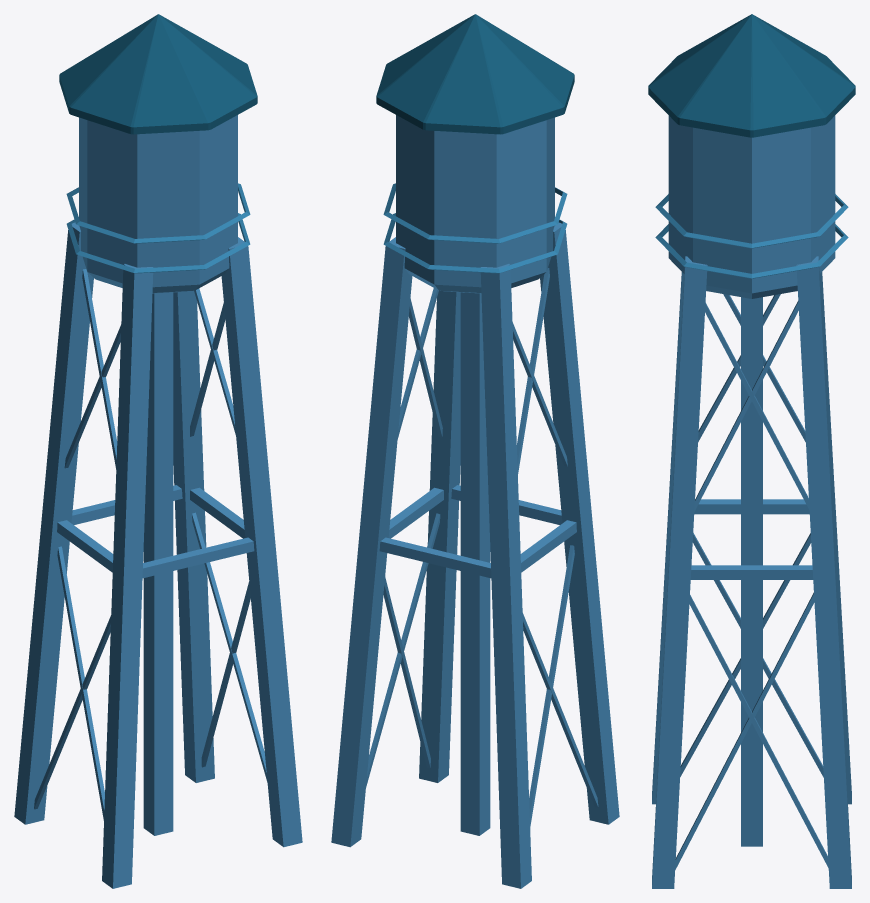
The model's file is water tower.fbx.
3 views of the same model, side by side, from view 1: azimuth 30°, elevation 25°; view 2: azimuth 150°, elevation 25°; view 3: azimuth 270°, elevation 25° (orthographic).
Visible parts, largest first — view 1: Water Tower -col; view 2: Water Tower -col; view 3: Water Tower -col.
Part boxes in pixels (bbox=[...]): Water Tower -col: bbox=[14, 14, 302, 888]; Water Tower -col: bbox=[331, 14, 619, 888]; Water Tower -col: bbox=[648, 14, 855, 888].
Size of the model in its own units: 2000 by 8218 by 1867.
